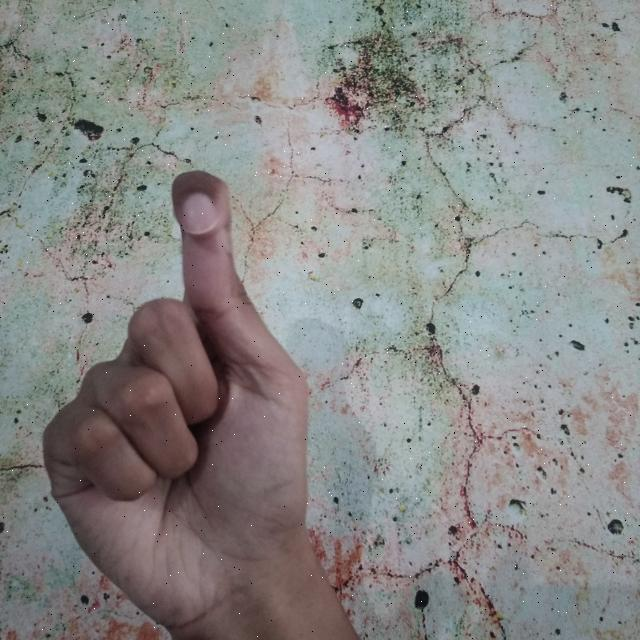T: (41, 163, 360, 640)
